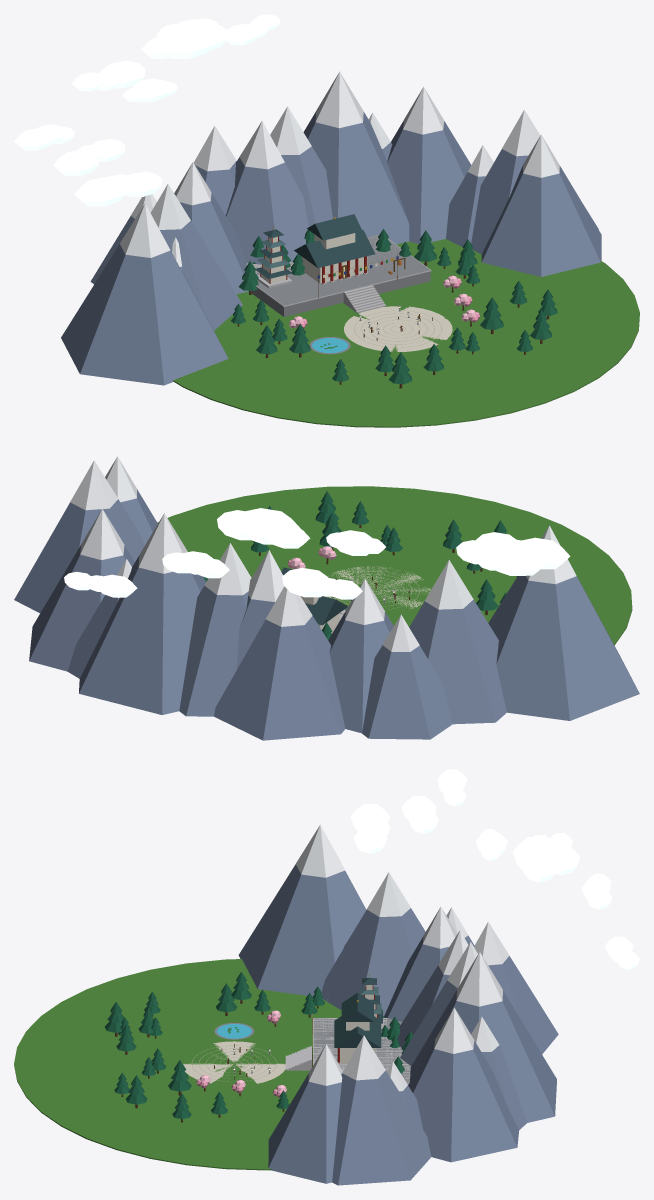
Rendered from templo-monge.glb.
3 renders of one model, top to bottom at view 1: azimuth 30°, elevation 25°; view 2: azimuth 150°, elevation 25°; view 3: azimuth 270°, elevation 25°, orthographic. The views are drawn at different scales.
Parts seen in each view (by area): view 1: Montanhas, Chao, Nuvens, Arvores, Terraco, Templo, Pagode, Escada, Sakuras; view 2: Montanhas, Chao, Nuvens, Arvores, Templo; view 3: Montanhas, Chao, Nuvens, Arvores, Templo, Terraco.
Part boxes in pixels (x1,y1,x2,y2): Montanhas: [61, 71, 601, 385]; Chao: [173, 239, 639, 427]; Nuvens: [14, 14, 279, 206]; Arvores: [231, 229, 557, 388]; Terraco: [246, 234, 431, 316]; Templo: [294, 214, 375, 284]; Pagode: [256, 225, 292, 288]; Escada: [343, 285, 386, 313]; Sakuras: [289, 275, 479, 328]; Montanhas: [14, 456, 639, 740]; Chao: [157, 486, 632, 645]; Nuvens: [64, 508, 570, 599]; Arvores: [203, 491, 517, 639]; Templo: [281, 567, 347, 633]; Montanhas: [238, 824, 558, 1185]; Chao: [14, 959, 341, 1170]; Nuvens: [350, 769, 639, 969]; Arvores: [105, 972, 413, 1122]; Templo: [334, 992, 381, 1064]; Terraco: [313, 1018, 410, 1084].
Size of the model in its own units: 103 by 36.78 by 107.
